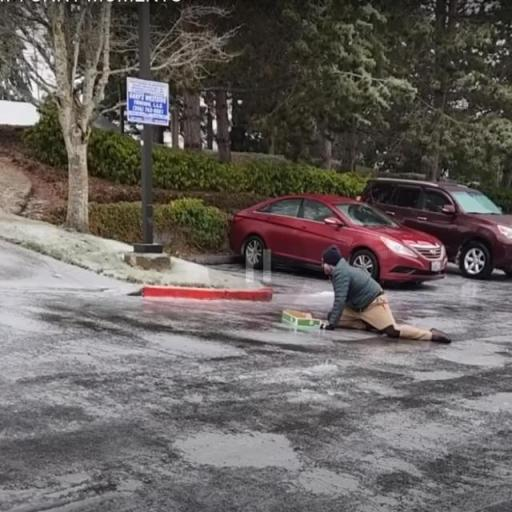Fall: (318, 242, 456, 349)
